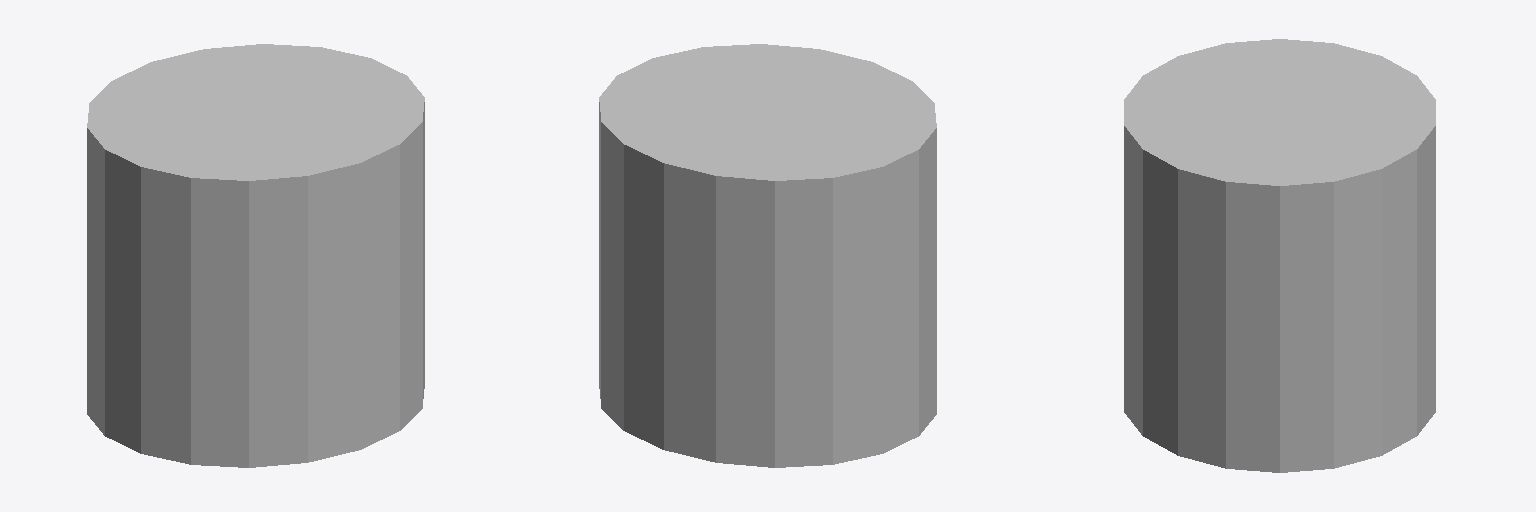
Rendered from original-12.obj.
The picture shows the model from 3 angles: view 1: azimuth 30°, elevation 25°; view 2: azimuth 150°, elevation 25°; view 3: azimuth 270°, elevation 25°; orthographic projection.
Visible parts, largest first — view 1: mesh8/mesh8-geometry#mesh8-geometry; view 2: mesh8/mesh8-geometry#mesh8-geometry; view 3: mesh8/mesh8-geometry#mesh8-geometry.
Part boxes in pixels (bbox=[...]): mesh8/mesh8-geometry#mesh8-geometry: bbox=[87, 44, 424, 467]; mesh8/mesh8-geometry#mesh8-geometry: bbox=[599, 44, 936, 467]; mesh8/mesh8-geometry#mesh8-geometry: bbox=[1124, 39, 1435, 472].
Size of the model in its own units: 0.0429 by 0.039 by 0.0384.